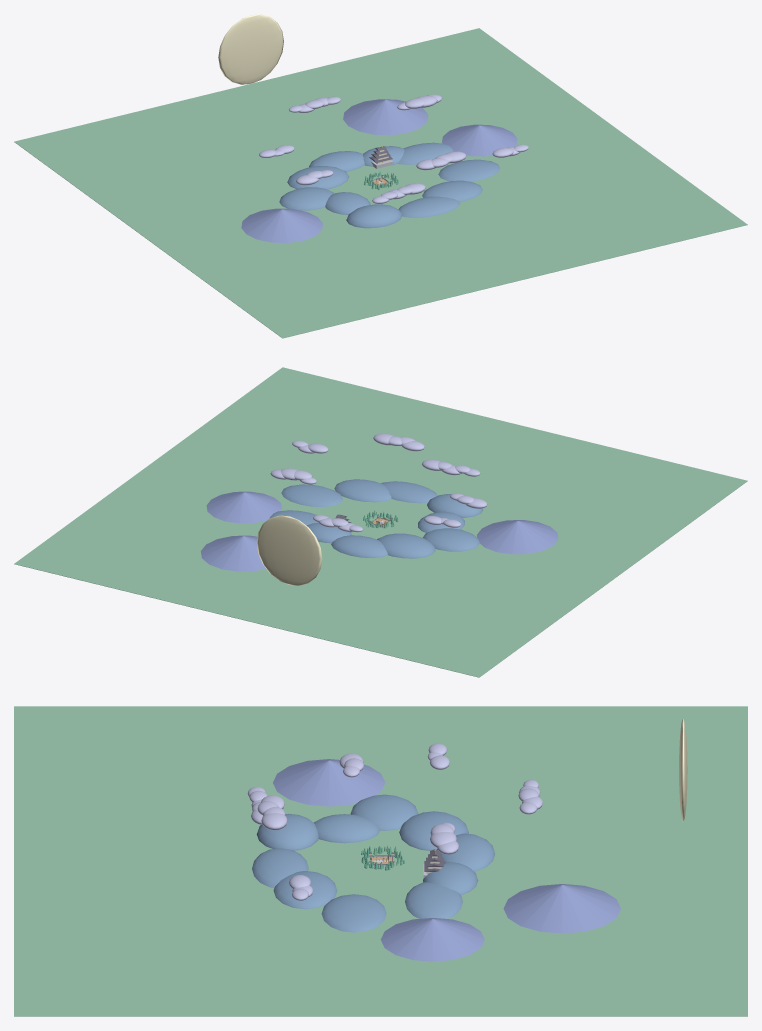
Rendered from stage_castle.glb.
3 views of the same model, one above another, from view 1: azimuth 30°, elevation 25°; view 2: azimuth 150°, elevation 25°; view 3: azimuth 270°, elevation 25° (orthographic). The views are drawn at different scales.
Parts seen in each view (by area): view 1: ground_box_001, background_sph_001, background_cone_012, background_cone_014, background_cone_013, background_sph_005, background_sph_002, background_sph_004, background_sph_007, background_sph_003, background_sph_008, background_sph_009 (+2 smaller); view 2: ground_box_001, background_sph_001, background_cone_014, background_cone_013, background_cone_012, background_sph_008, background_sph_002, background_sph_007, background_sph_003, background_sph_009, background_sph_004, background_sph_005; view 3: ground_box_001, background_cone_012, background_cone_014, background_cone_013, background_sph_002, background_sph_011, background_sph_007, background_sph_005, background_sph_006, background_sph_004, background_sph_008, background_sph_003 (+3 smaller).
Part boxes in pixels (x1=…): ground_box_001: x1=14, y1=28, x2=747, y2=338; background_sph_001: x1=218, y1=14, x2=283, y2=84; background_cone_012: x1=343, y1=99, x2=428, y2=135; background_cone_014: x1=241, y1=208, x2=322, y2=242; background_cone_013: x1=442, y1=124, x2=517, y2=156; background_sph_005: x1=346, y1=204, x2=402, y2=228; background_sph_002: x1=438, y1=159, x2=500, y2=181; background_sph_004: x1=398, y1=196, x2=460, y2=217; background_sph_007: x1=279, y1=187, x2=334, y2=210; background_sph_003: x1=422, y1=180, x2=482, y2=201; background_sph_008: x1=287, y1=166, x2=349, y2=189; background_sph_009: x1=309, y1=151, x2=364, y2=171; ground_box_001: x1=14, y1=367, x2=747, y2=677; background_sph_001: x1=256, y1=515, x2=322, y2=585; background_cone_014: x1=477, y1=520, x2=558, y2=554; background_cone_013: x1=206, y1=491, x2=281, y2=523; background_cone_012: x1=200, y1=535, x2=265, y2=571; background_sph_008: x1=377, y1=533, x2=435, y2=558; background_sph_002: x1=281, y1=484, x2=342, y2=506; background_sph_007: x1=423, y1=528, x2=479, y2=551; background_sph_003: x1=334, y1=479, x2=391, y2=502; background_sph_009: x1=331, y1=535, x2=387, y2=558; background_sph_004: x1=381, y1=481, x2=437, y2=503; background_sph_005: x1=427, y1=494, x2=482, y2=517; ground_box_001: x1=14, y1=706, x2=747, y2=1016; background_cone_012: x1=503, y1=884, x2=620, y2=933; background_cone_014: x1=273, y1=759, x2=385, y2=806; background_cone_013: x1=380, y1=918, x2=484, y2=961; background_sph_002: x1=321, y1=894, x2=386, y2=932; background_sph_011: x1=405, y1=882, x2=462, y2=918; background_sph_007: x1=350, y1=794, x2=418, y2=830; background_sph_005: x1=256, y1=813, x2=318, y2=850; background_sph_006: x1=314, y1=814, x2=379, y2=843; background_sph_004: x1=252, y1=848, x2=308, y2=887; background_sph_008: x1=399, y1=811, x2=468, y2=850; background_sph_003: x1=273, y1=871, x2=337, y2=909.
Size of the model in its own units: 1700 by 364 by 1700.
